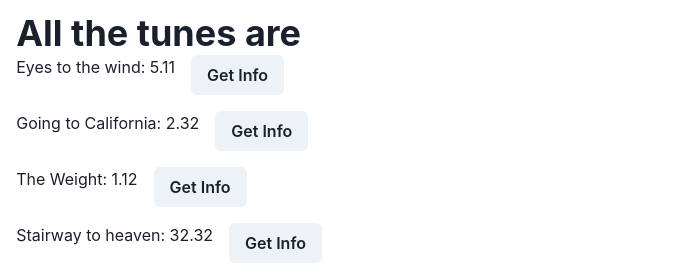
Test case: Matt › should show details on click
The width and height of the screenshot is (698, 280).
Check: the heading "All the tunes are" is shown, box [16,11,301,55]
Check: the text "Eyes to the wind: 5.11" is shown, box [16,57,175,77]
Step 1. Click the button "Get Info" next to "Eyes to the wind: 5.11" → (238, 75), box [191,55,284,95]
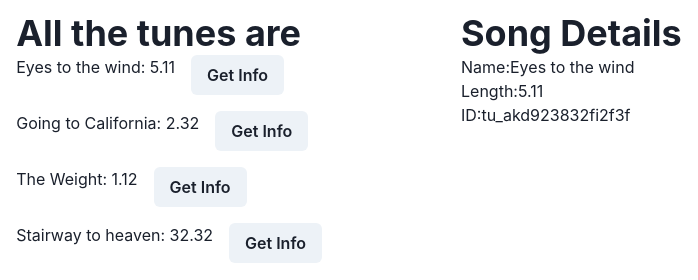
Check: the heading "Song Details" is shown, box [461,11,682,55]
Check: the text named "Name:" reads "Eyes to the wind", box [510,57,634,77]
Check: the text named "Length:" reads "5.11", box [518,81,543,101]
